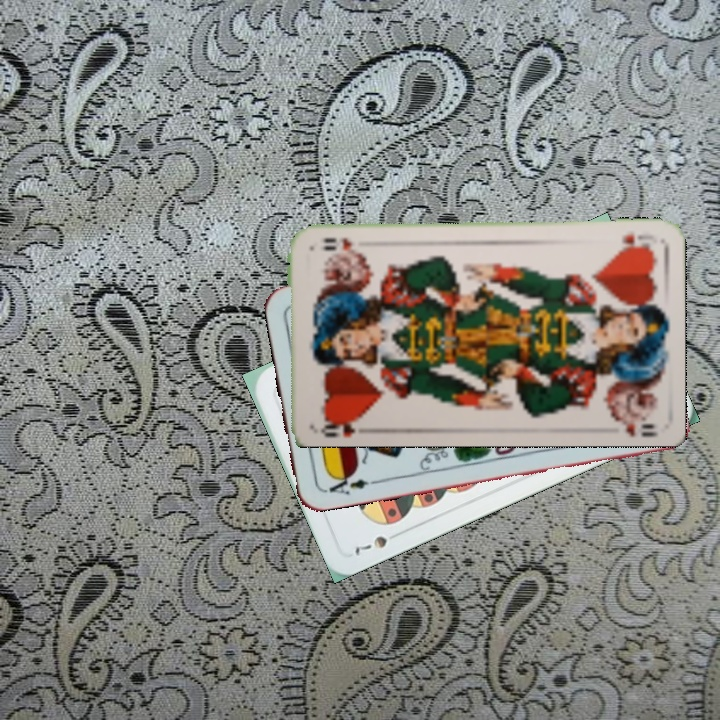EA: (319, 469, 378, 497)
HO: (316, 411, 369, 438), (614, 229, 659, 252)
S7: (350, 531, 391, 558)
